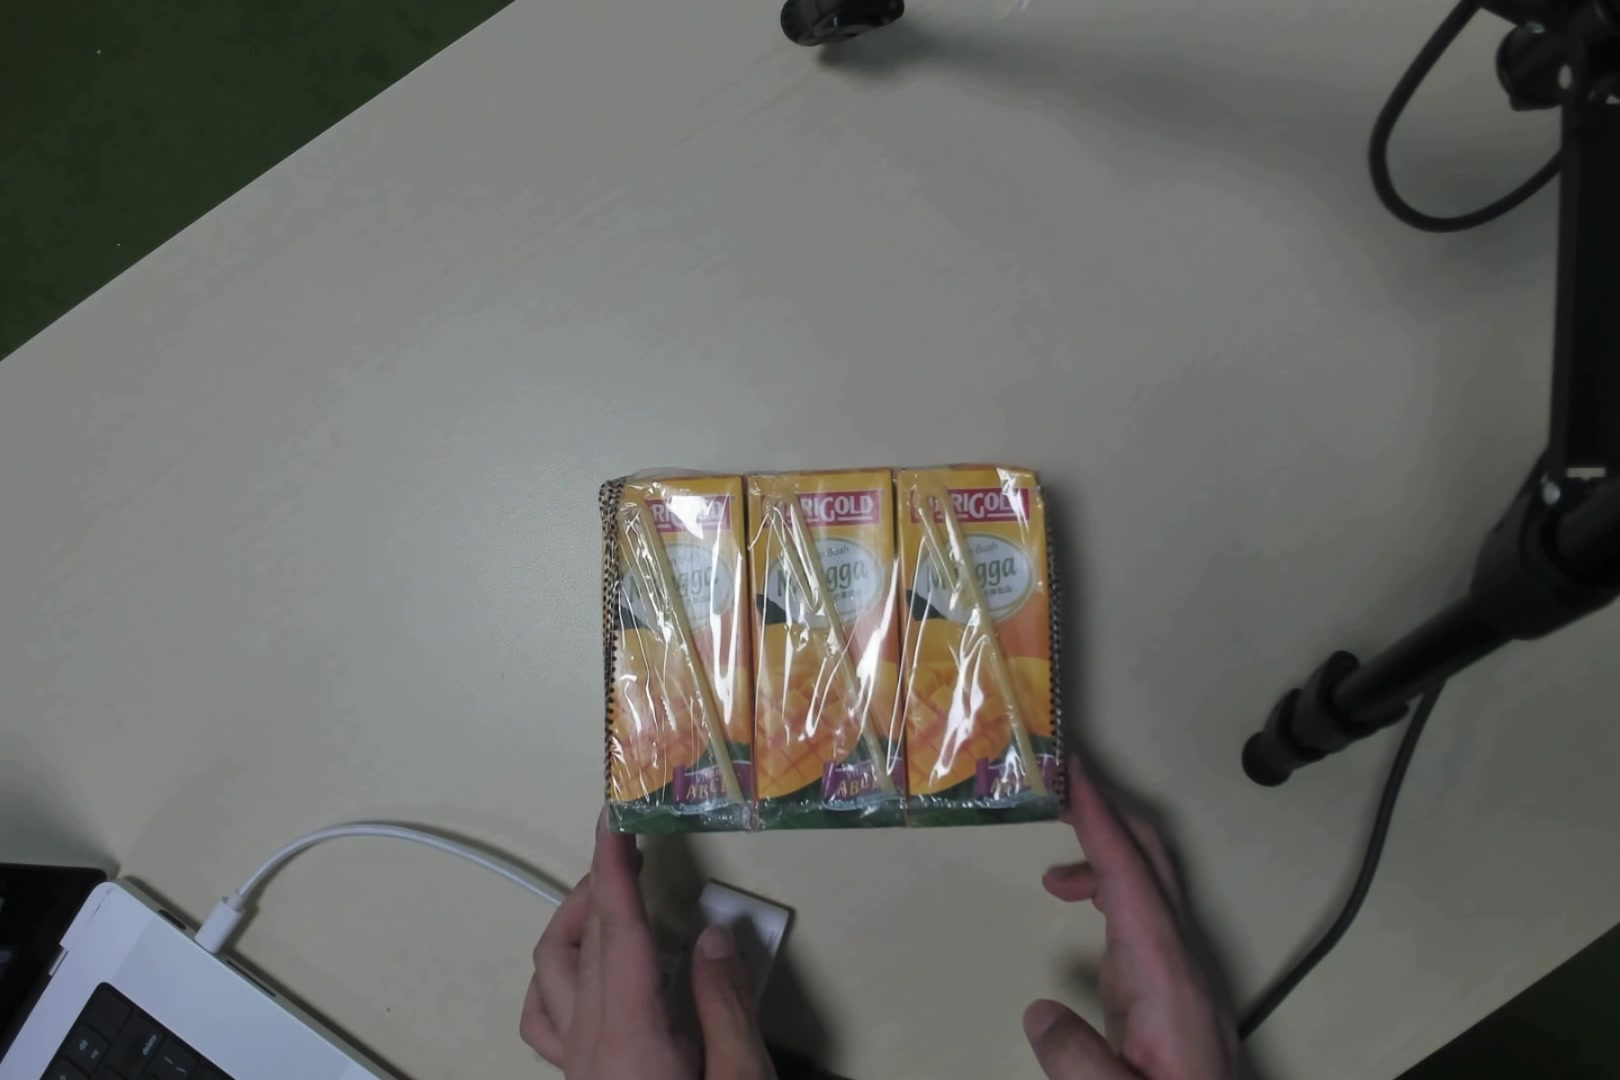FruitJuice_700-799g_Halal_NonHealthy: (611, 422, 1082, 812)
